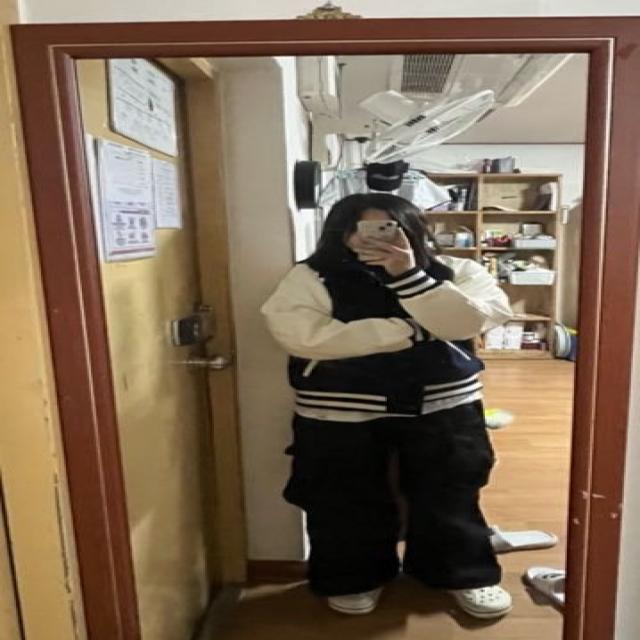cottonpants: (276, 398, 500, 592)
jacket: (253, 254, 502, 423)
